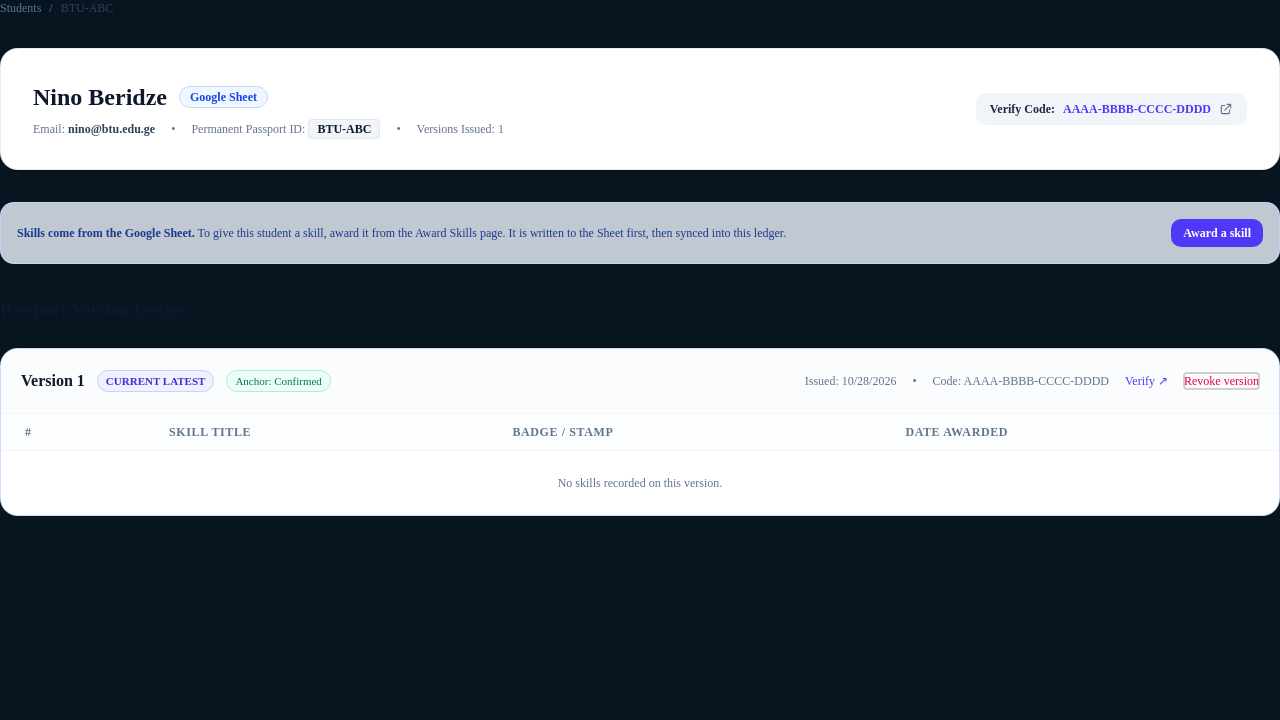
Test: admin student detail revocation controls › cancels with Escape and puts focus back on the button that opened it
Click the button "Revoke version": (1222, 381) x1=1184 y1=373 x2=1259 y2=389
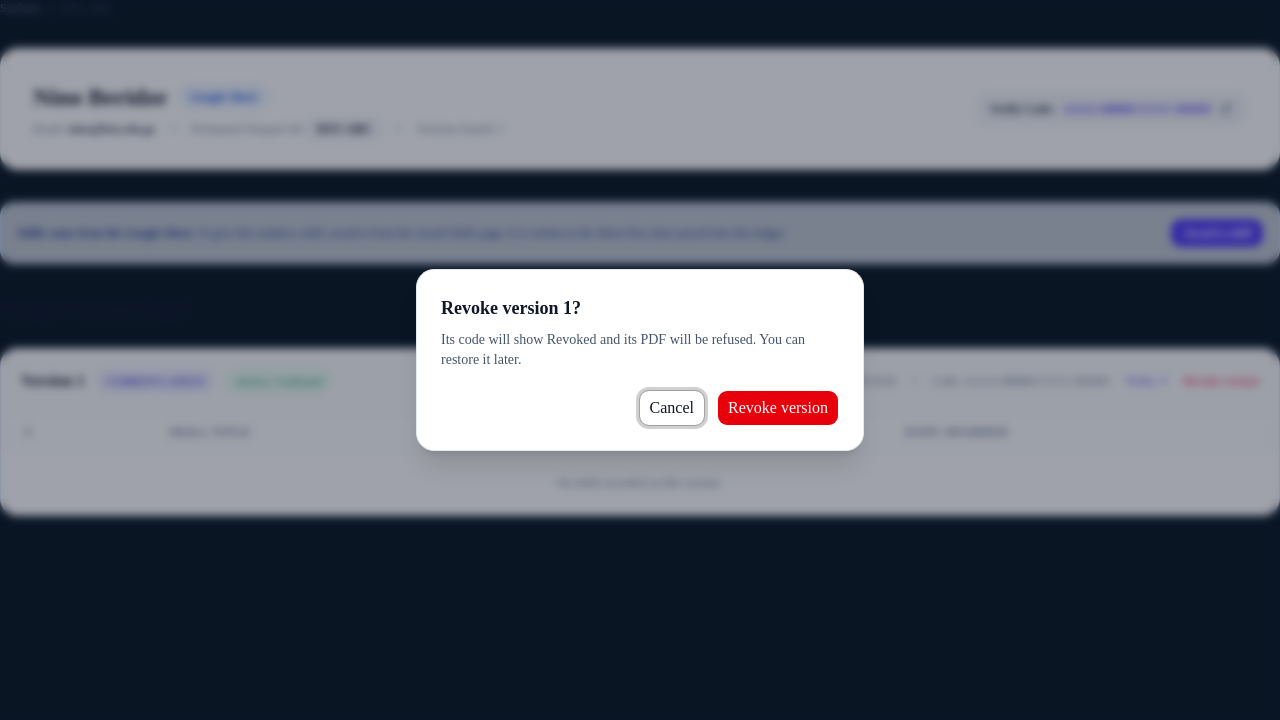
Press Escape in the button "Cancel", box x1=639 y1=390 x2=705 y2=426
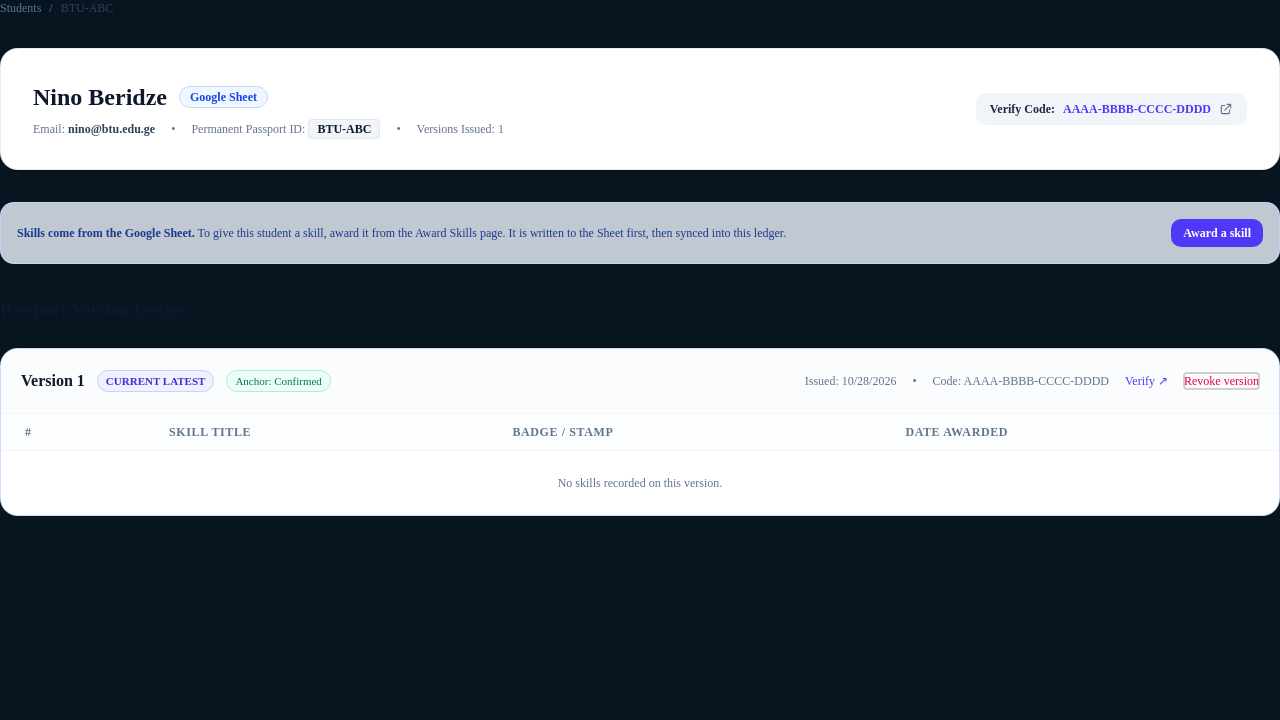
Now the dialog is gone
